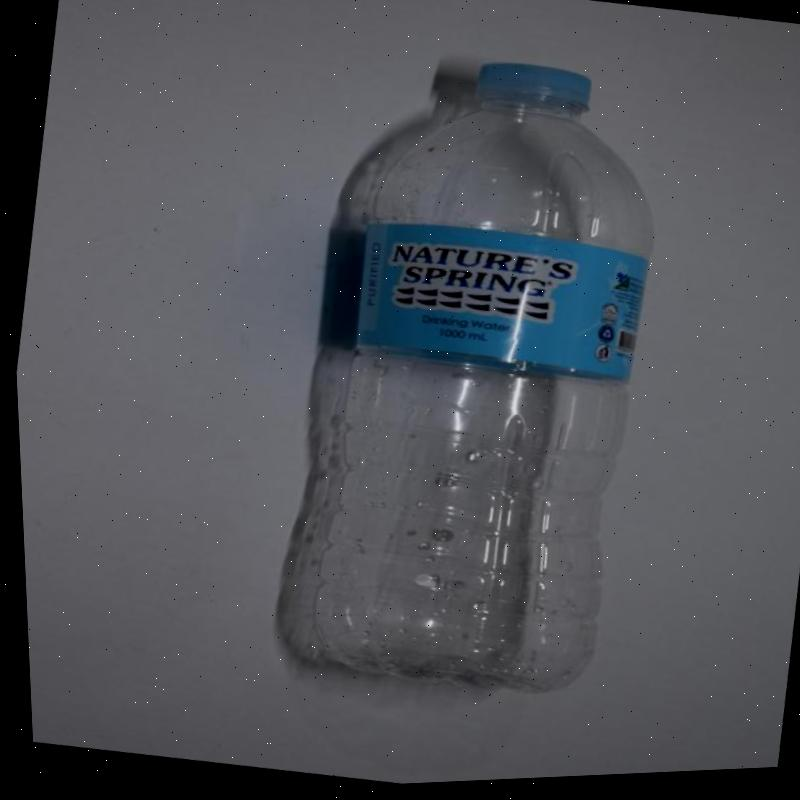botella: (275, 37, 690, 715)
